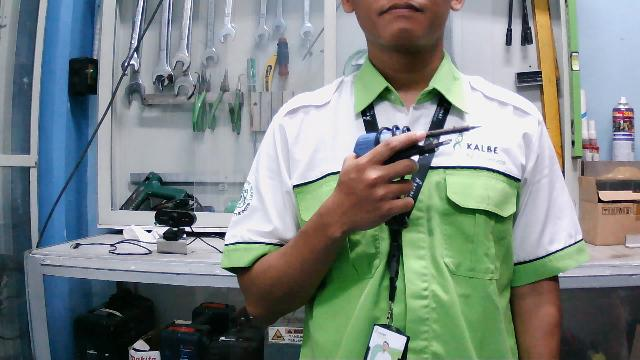solder_electrical: (347, 122, 480, 230)
